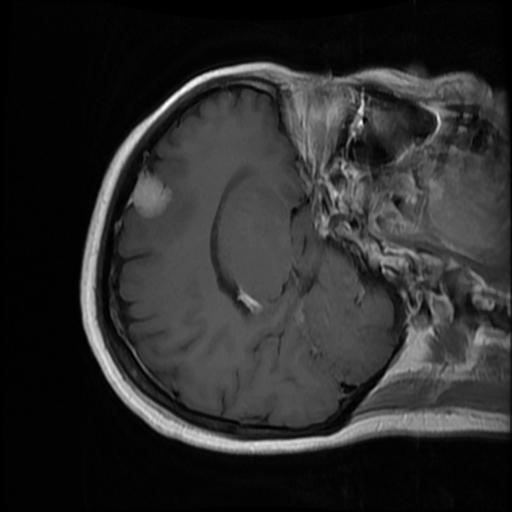meningioma: (131, 168, 171, 218)
